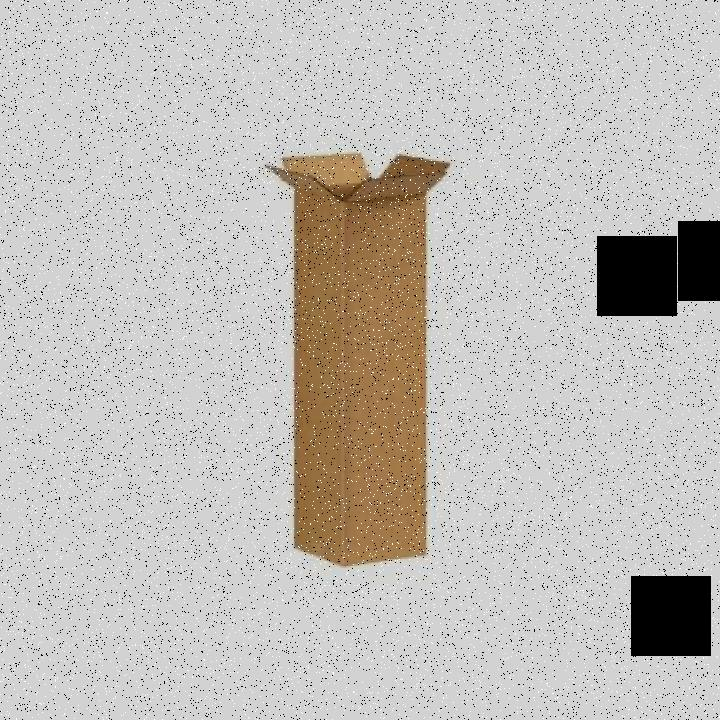box: (256, 126, 471, 580)
